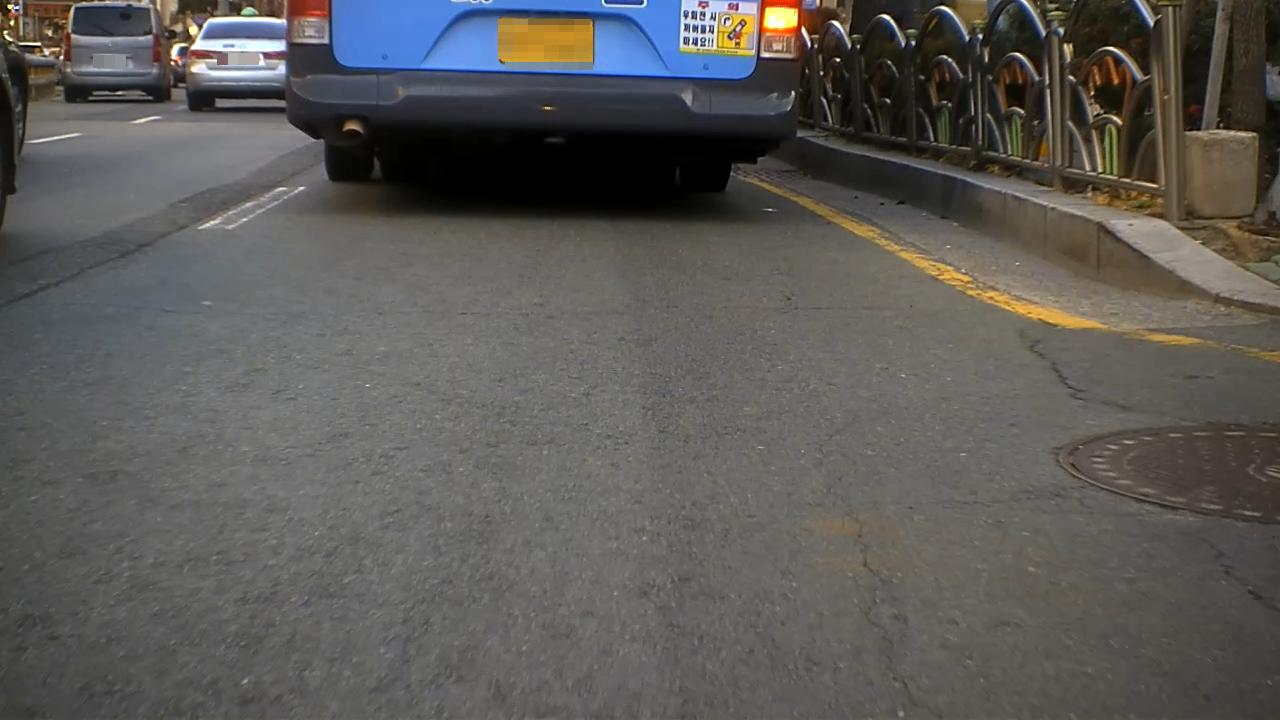vcrack: (814, 439, 914, 704), (9, 214, 181, 309), (1011, 317, 1092, 412), (1192, 519, 1272, 601)
